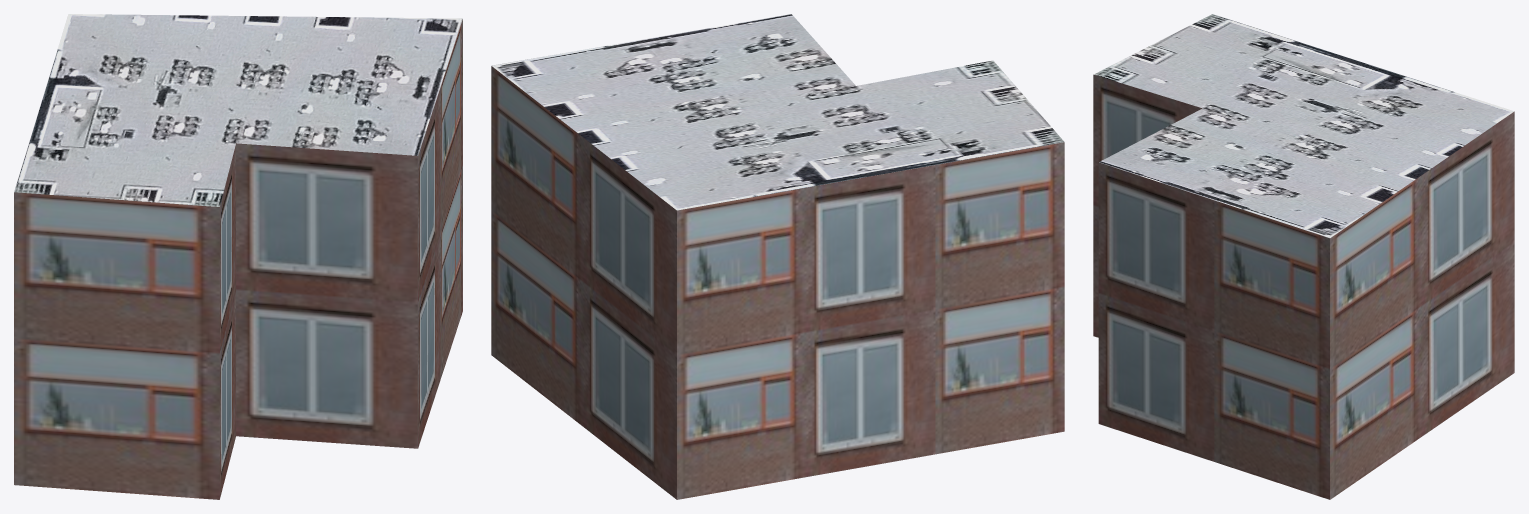
Rendered from ResTex__3367.fbx.
The picture shows the model from 3 angles, left to right: view 1: azimuth 30°, elevation 25°; view 2: azimuth 150°, elevation 25°; view 3: azimuth 270°, elevation 25°; orthographic projection. The views are drawn at different scales.
Visible parts, largest first — view 1: CityEngineMaterial_19_m, CityEngineMaterial_15_m; view 2: CityEngineMaterial_19_m, CityEngineMaterial_15_m; view 3: CityEngineMaterial_19_m, CityEngineMaterial_15_m.
Boxes of the visible parts, x1,y1,x2,y2 form: CityEngineMaterial_19_m: (14, 19, 462, 499); CityEngineMaterial_15_m: (14, 14, 462, 206); CityEngineMaterial_19_m: (491, 66, 1064, 499); CityEngineMaterial_15_m: (491, 14, 1064, 210); CityEngineMaterial_19_m: (1093, 74, 1514, 499); CityEngineMaterial_15_m: (1094, 14, 1513, 238).
Bounding box in the file's own units: 11.04 × 6 × 8.75.
Materials: 2 (2 with a texture image).
